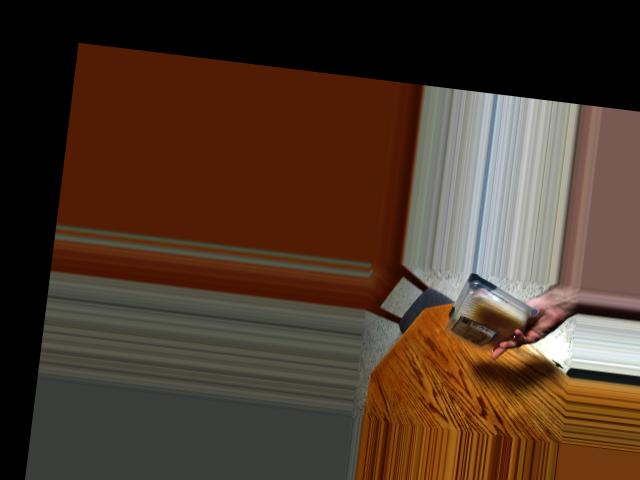cheese: (445, 276, 531, 353)
